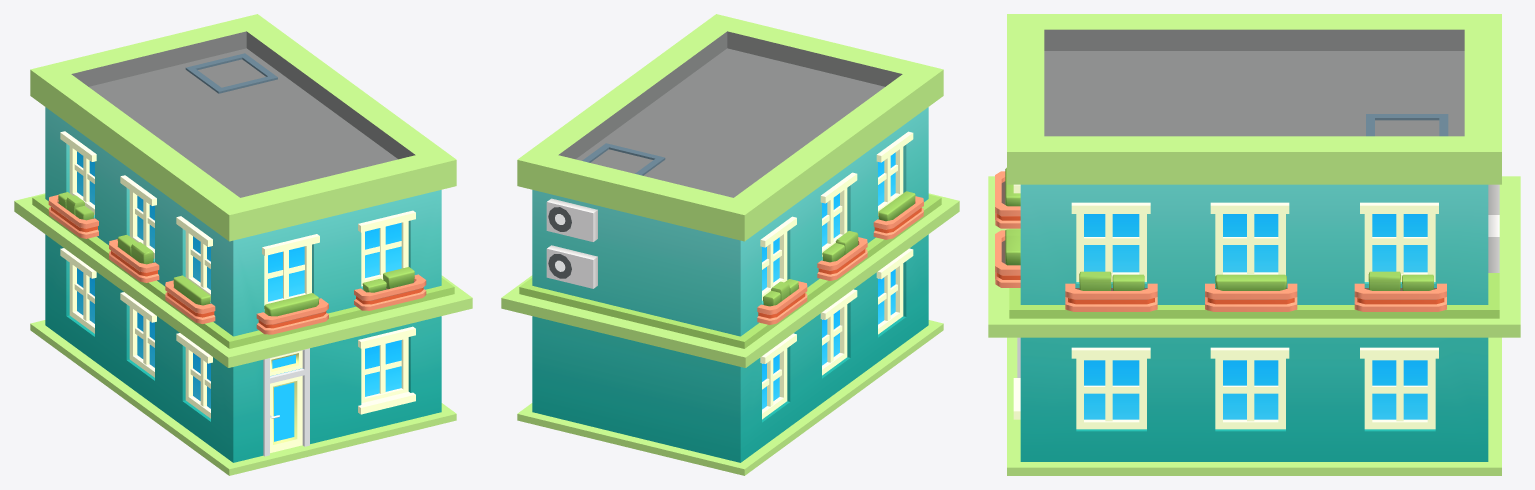
File: city2-building-living-05.glb
3 views of the same model, side by side, from view 1: azimuth 30°, elevation 25°; view 2: azimuth 150°, elevation 25°; view 3: azimuth 270°, elevation 25° (orthographic). The views are drawn at different scales.
Visible parts, largest first — view 1: Building_Living_05; view 2: Building_Living_05; view 3: Building_Living_05.
Boxes of the visible parts, left/top/right/bottom form: Building_Living_05: left=14, top=14, right=472, bottom=475; Building_Living_05: left=501, top=14, right=959, bottom=475; Building_Living_05: left=988, top=14, right=1520, bottom=475.
Bounding box in the file's own units: 7.69 × 7.83 × 11.65.
Materials: 1 (1 with a texture image).
